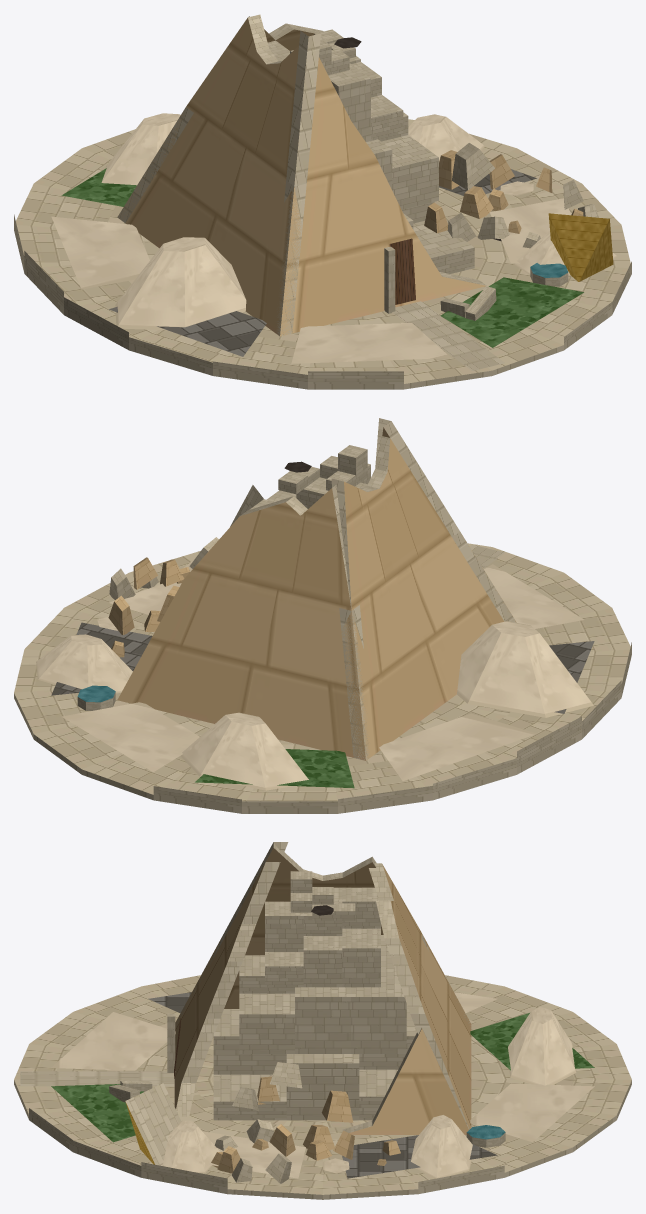
The model's file is pyramid_large_destroyed_lod1.glb.
3 views of the same model, one above another, from view 1: azimuth 30°, elevation 25°; view 2: azimuth 150°, elevation 25°; view 3: azimuth 270°, elevation 25° (orthographic). The views are drawn at different scales.
Visible parts, largest first — view 1: pyramid_large_destroyed_lod1; view 2: pyramid_large_destroyed_lod1; view 3: pyramid_large_destroyed_lod1.
Boxes of the visible parts, x1=… form: pyramid_large_destroyed_lod1: x1=14, y1=14, x2=631, y2=389; pyramid_large_destroyed_lod1: x1=14, y1=418, x2=631, y2=813; pyramid_large_destroyed_lod1: x1=14, y1=842, x2=631, y2=1199.
Size of the model in its own units: 1.68 by 0.7757 by 1.9.
1 material, 1 textured.
